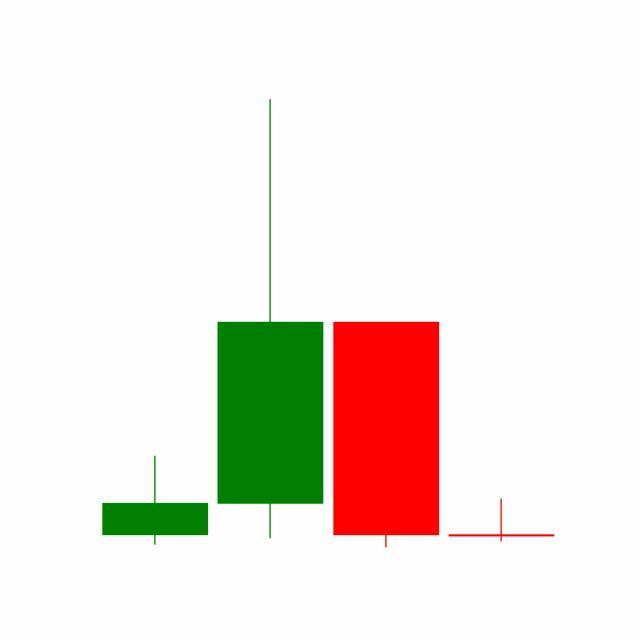Gravestone Doji: (444, 498, 560, 543)
